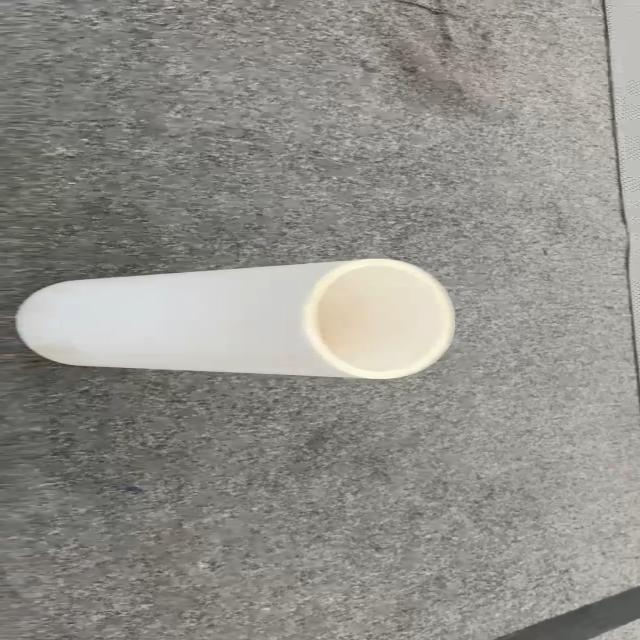coral: (14, 256, 457, 380)
